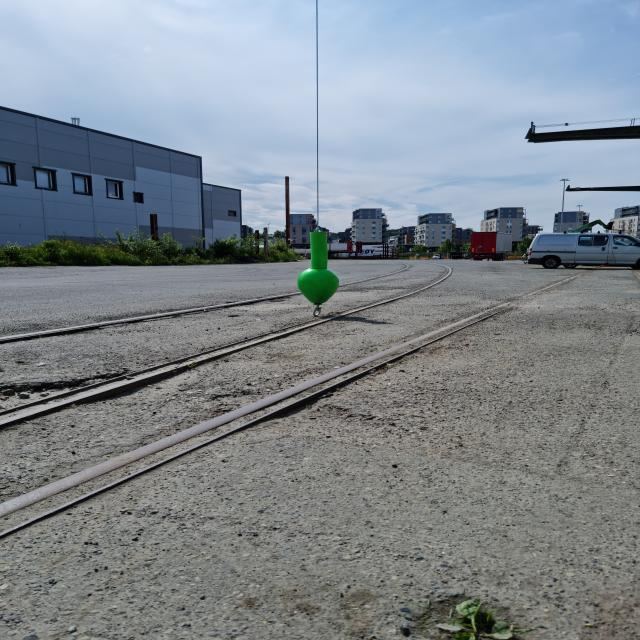green: (298, 232, 339, 304)
